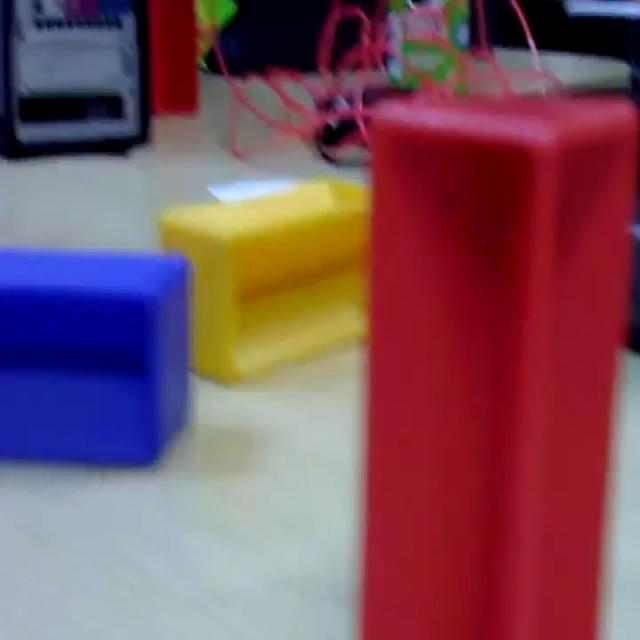blue_block: (0, 244, 191, 468)
red_block: (360, 84, 637, 636)
yellow_block: (157, 175, 371, 384)
